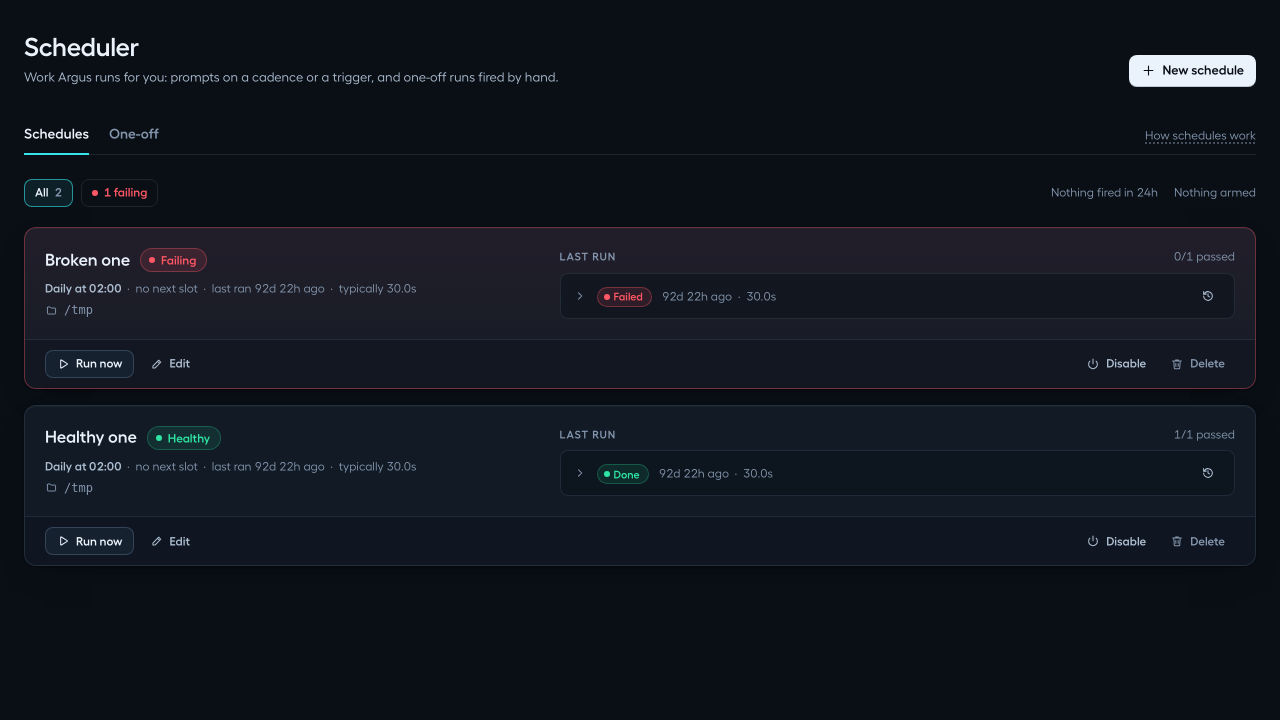
Schedules health › filters to the failing schedules when the failing count is clicked
expect the heading "Healthy one" is shown: met, box [45,426,137,449]
Click the button "1 failing": (120, 193) [81,179,158,207]
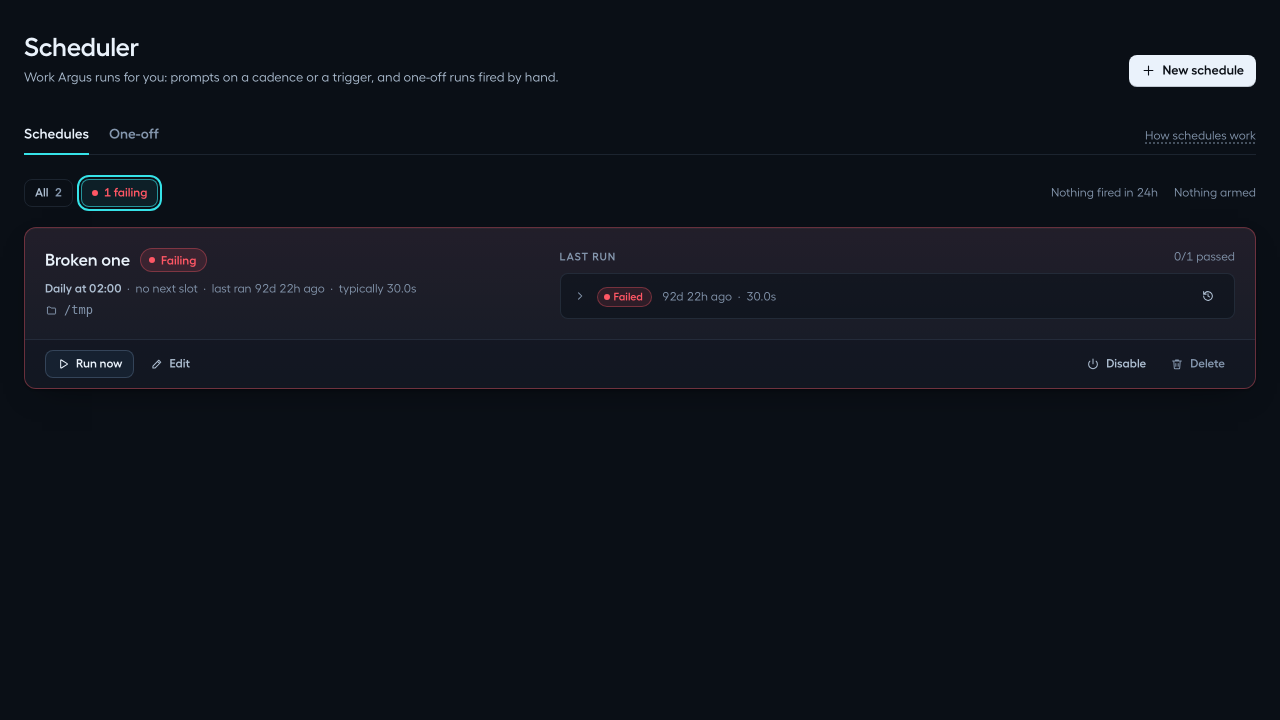
expect the heading "Broken one" is shown: met, box [45,249,130,271]
expect the heading "Healthy one" is gone: met
